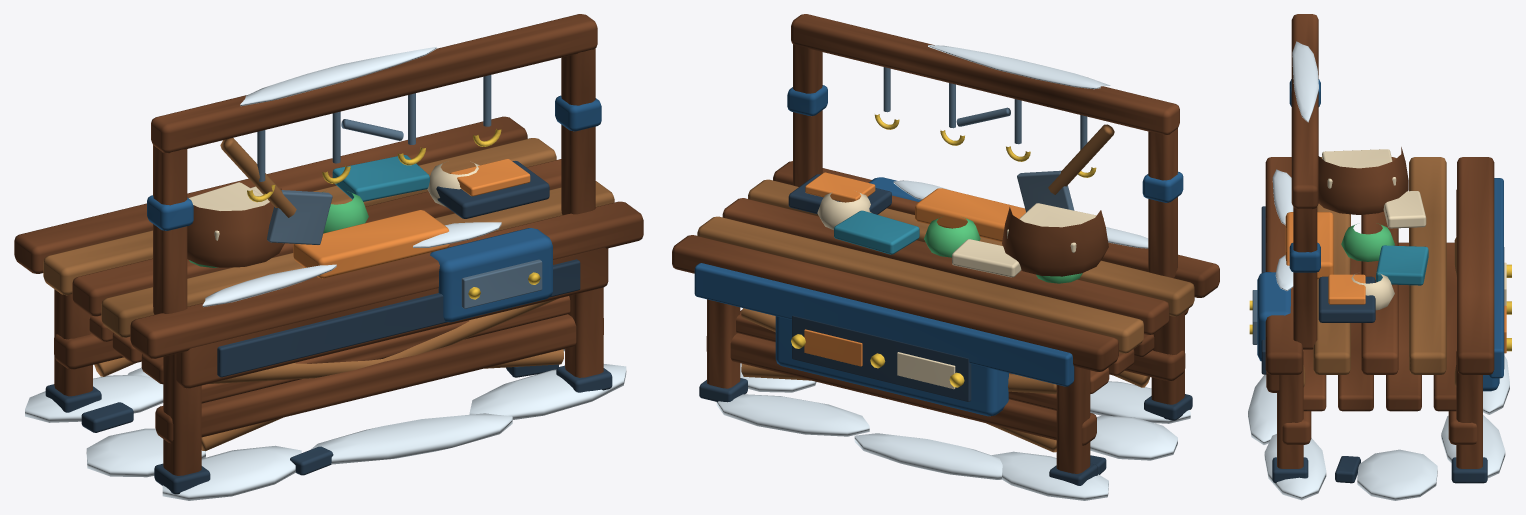
File: service_counter.glb
3 renders of one model, left to right at view 1: azimuth 30°, elevation 25°; view 2: azimuth 150°, elevation 25°; view 3: azimuth 270°, elevation 25°, orthographic. The views are drawn at different scales.
Visible parts, largest first — view 1: service_counter; view 2: service_counter; view 3: service_counter.
Boxes of the visible parts, x1,y1,x2,y2 form: service_counter: [14, 14, 643, 500]; service_counter: [672, 14, 1219, 500]; service_counter: [1248, 14, 1511, 500].
Bounding box in the file's own units: 3.2 × 2.31 × 1.77.
